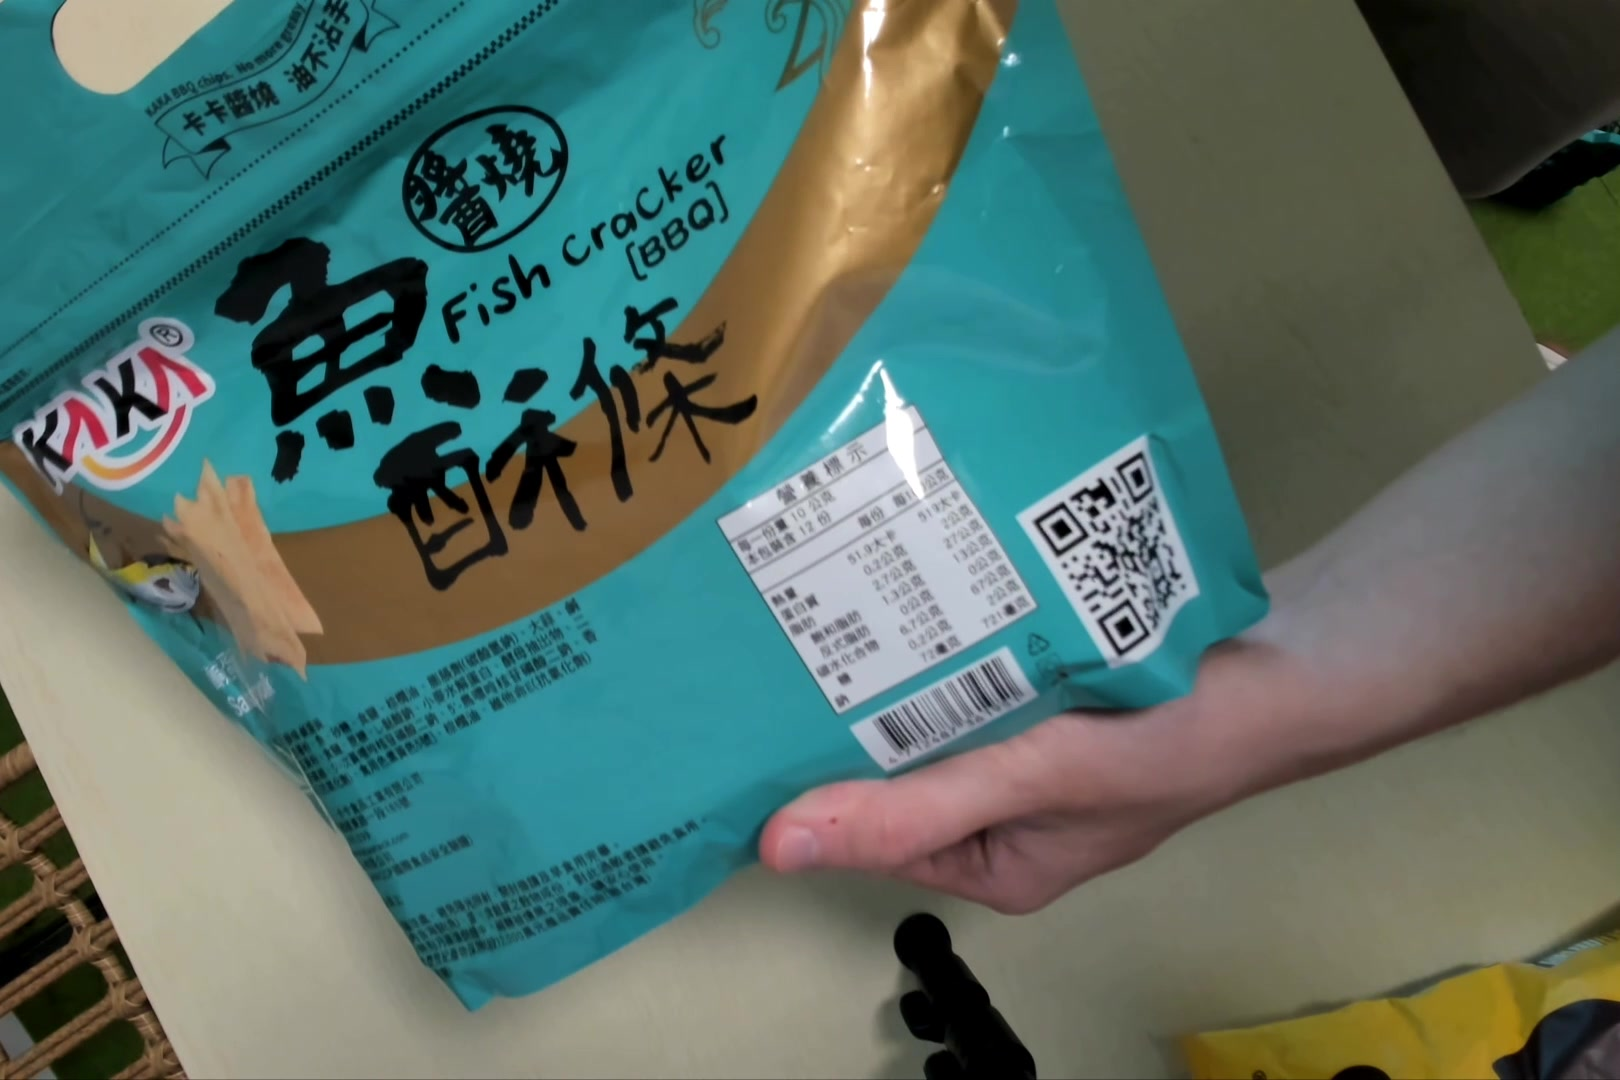PotatoChipsKeropok_100-199g_NonHalal_NonHealthy: (7, 2, 1280, 1015)
